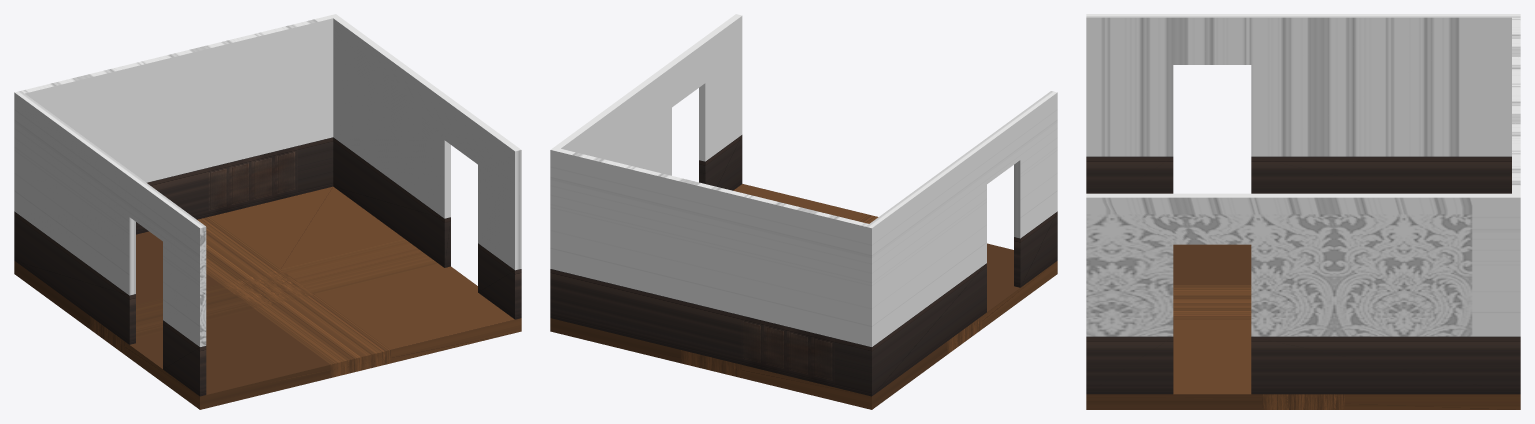
File: obj_room_type_a_body.fbx
The picture shows the model from 3 angles, left to right: view 1: azimuth 30°, elevation 25°; view 2: azimuth 150°, elevation 25°; view 3: azimuth 270°, elevation 25°; orthographic projection. The views are drawn at different scales.
Visible parts, largest first — view 1: obj_room_type_a_01, obj_room_type_a_2; view 2: obj_room_type_a_01, obj_room_type_a_2; view 3: obj_room_type_a_01, obj_room_type_a_2.
Part boxes in pixels (bbox=[...]): obj_room_type_a_01: bbox=[14, 14, 521, 396]; obj_room_type_a_2: bbox=[14, 186, 521, 409]; obj_room_type_a_01: bbox=[550, 14, 1057, 396]; obj_room_type_a_2: bbox=[550, 184, 1057, 409]; obj_room_type_a_01: bbox=[1086, 14, 1520, 394]; obj_room_type_a_2: bbox=[1086, 244, 1520, 409].
Size of the model in its own units: 5 by 2.7 by 5.
